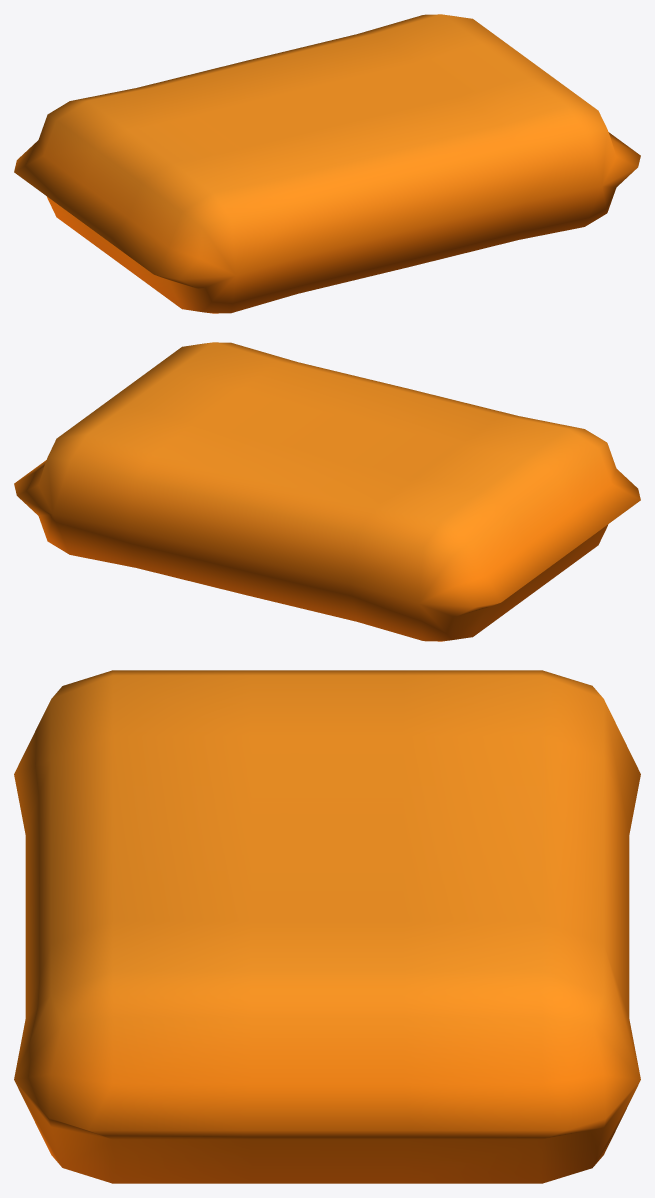
The model's file is Prop_Sandbag_01.fbx.
3 renders of one model, top to bottom at view 1: azimuth 30°, elevation 25°; view 2: azimuth 150°, elevation 25°; view 3: azimuth 270°, elevation 25°, orthographic. The views are drawn at different scales.
Visible parts, largest first — view 1: Prop_Sandbag_01; view 2: Prop_Sandbag_01; view 3: Prop_Sandbag_01.
Boxes of the visible parts, x1,y1,x2,y2 form: Prop_Sandbag_01: (14,14,640,313); Prop_Sandbag_01: (14,342,640,641); Prop_Sandbag_01: (14,670,640,1183).
Size of the model in its own units: 73.55 by 17.46 by 47.9.
